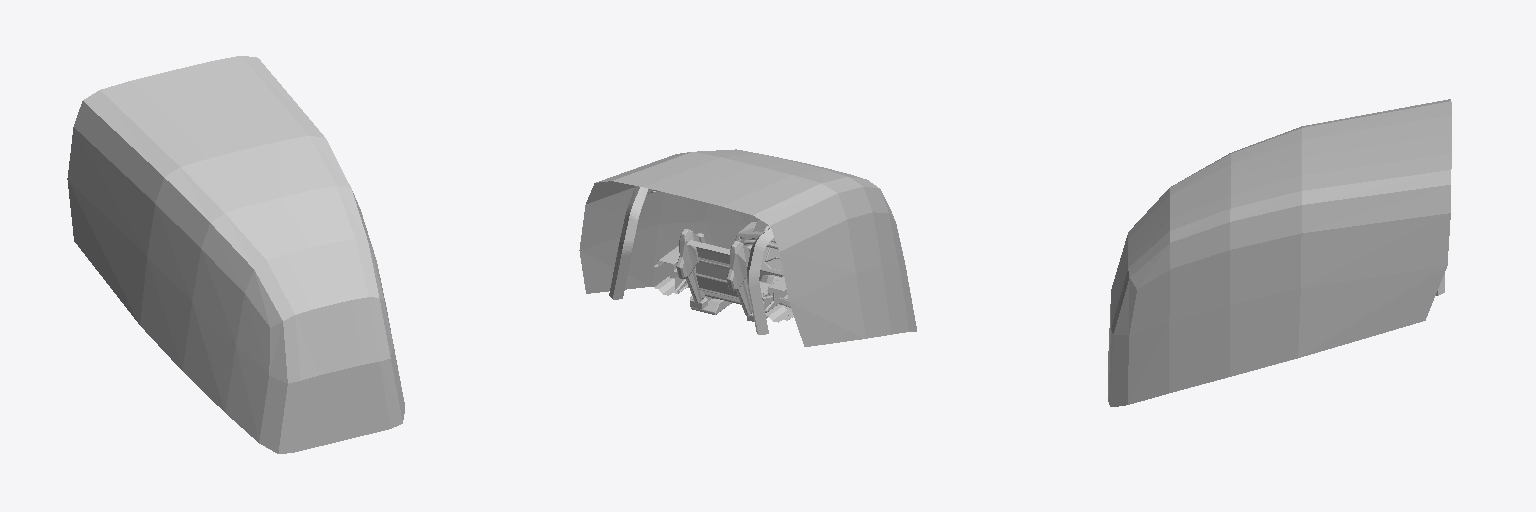
File: CockpitPlayer.obj
The picture shows the model from 3 angles: view 1: azimuth 30°, elevation 25°; view 2: azimuth 150°, elevation 25°; view 3: azimuth 270°, elevation 25°; orthographic projection.
Parts seen in each view (by area): view 1: Cockpit.001_cockpit.002; view 2: Cockpit.001_cockpit.002; view 3: Cockpit.001_cockpit.002.
Boxes of the visible parts, <box> form: Cockpit.001_cockpit.002: <box>67,56,404,453</box>; Cockpit.001_cockpit.002: <box>579,149,916,346</box>; Cockpit.001_cockpit.002: <box>1108,99,1451,406</box>.
Bounding box in the file's own units: 3.15 × 3.37 × 4.29.